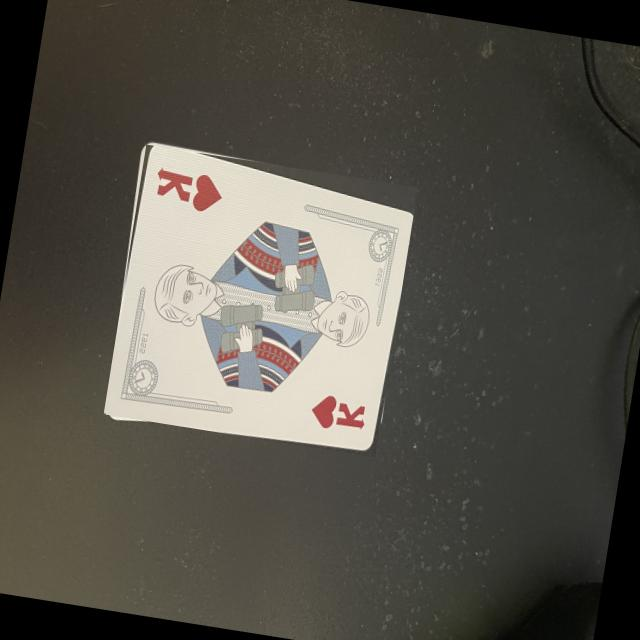King of hearts: (104, 147, 410, 448)
